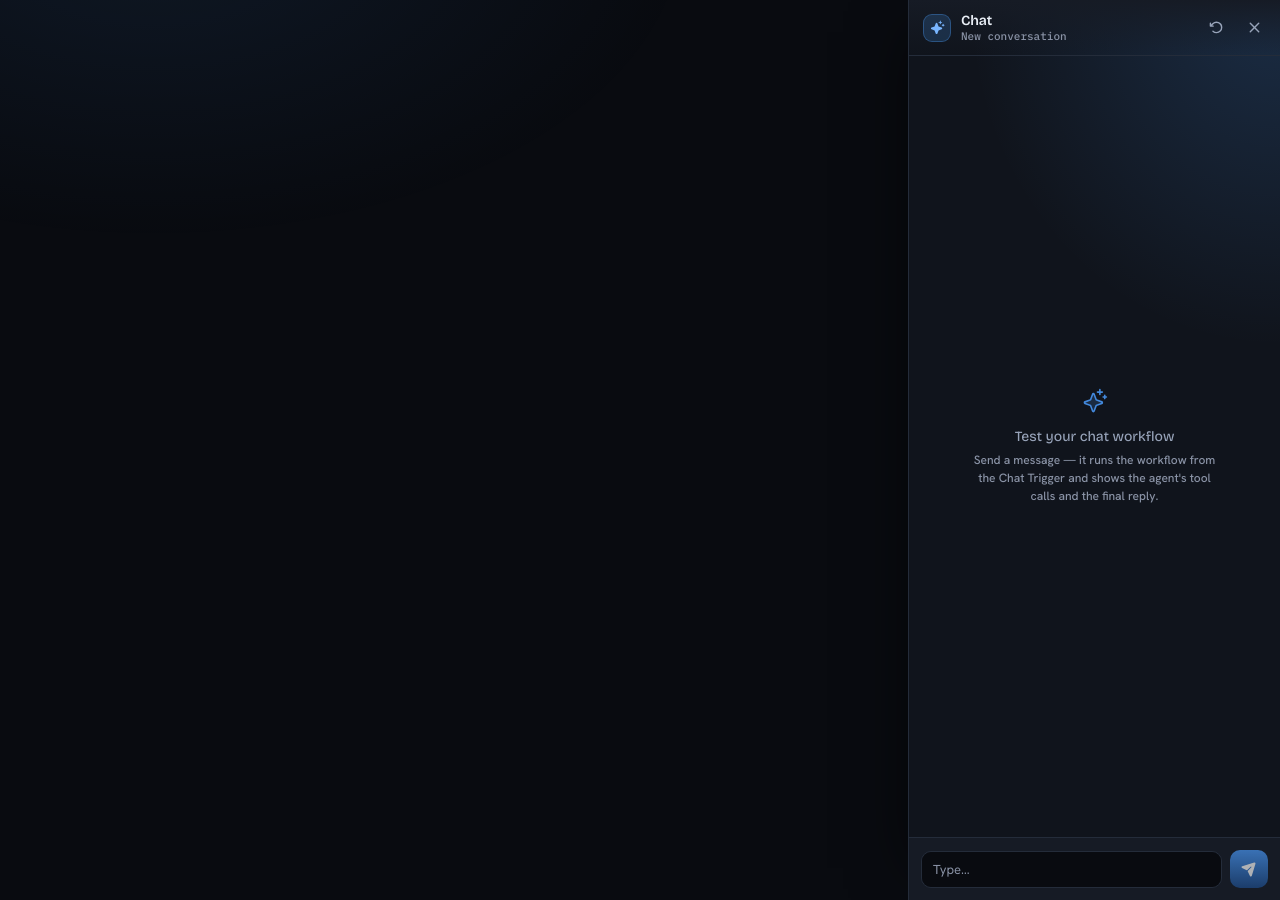
Scenario: ChatPanel › shows the agent tool trace from the run timeline
Type "search" into the text box with placeholder "Type…" at (1072, 870), box [921,851,1222,888]
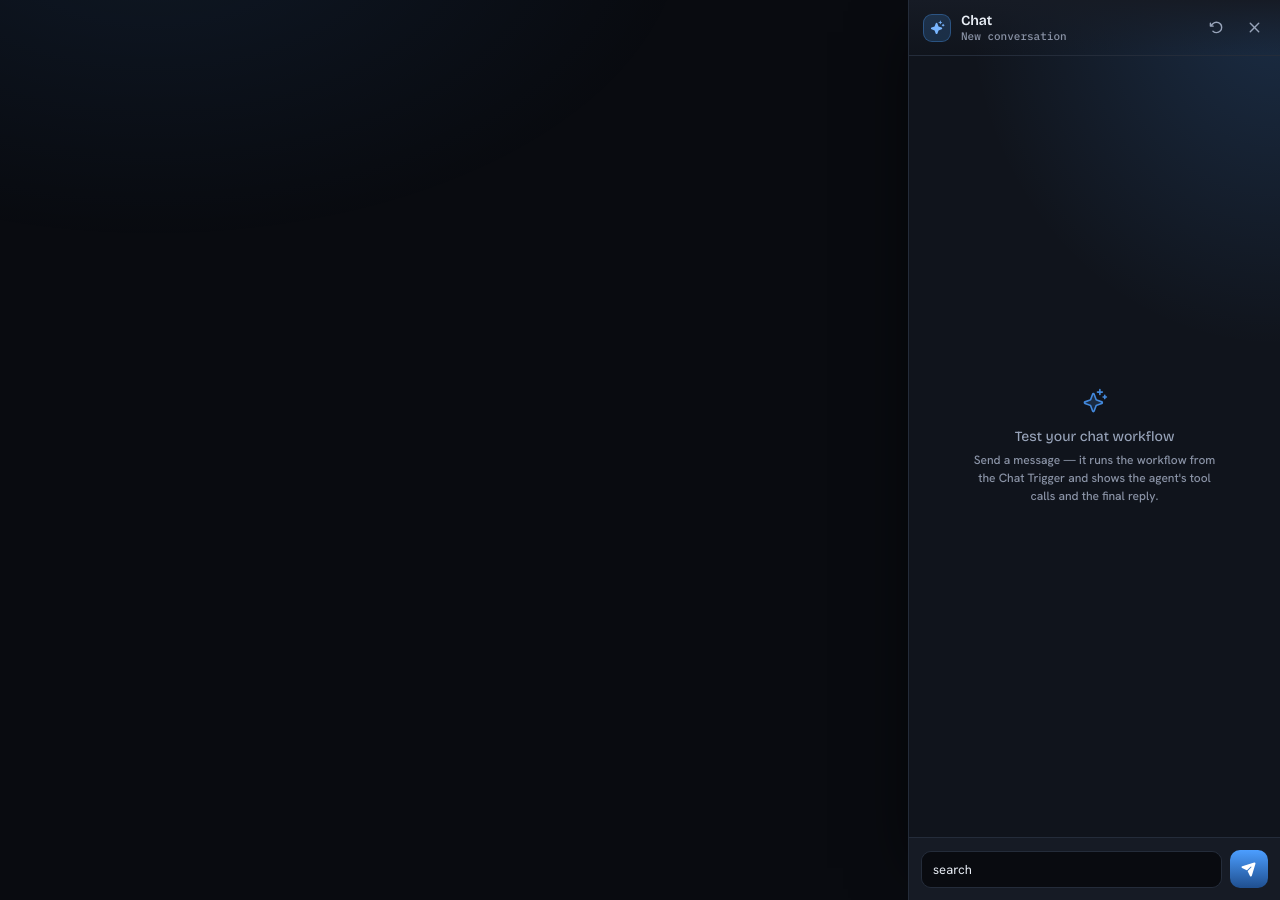
Click the button named "send" at (1249, 869), box [1230,850,1268,888]
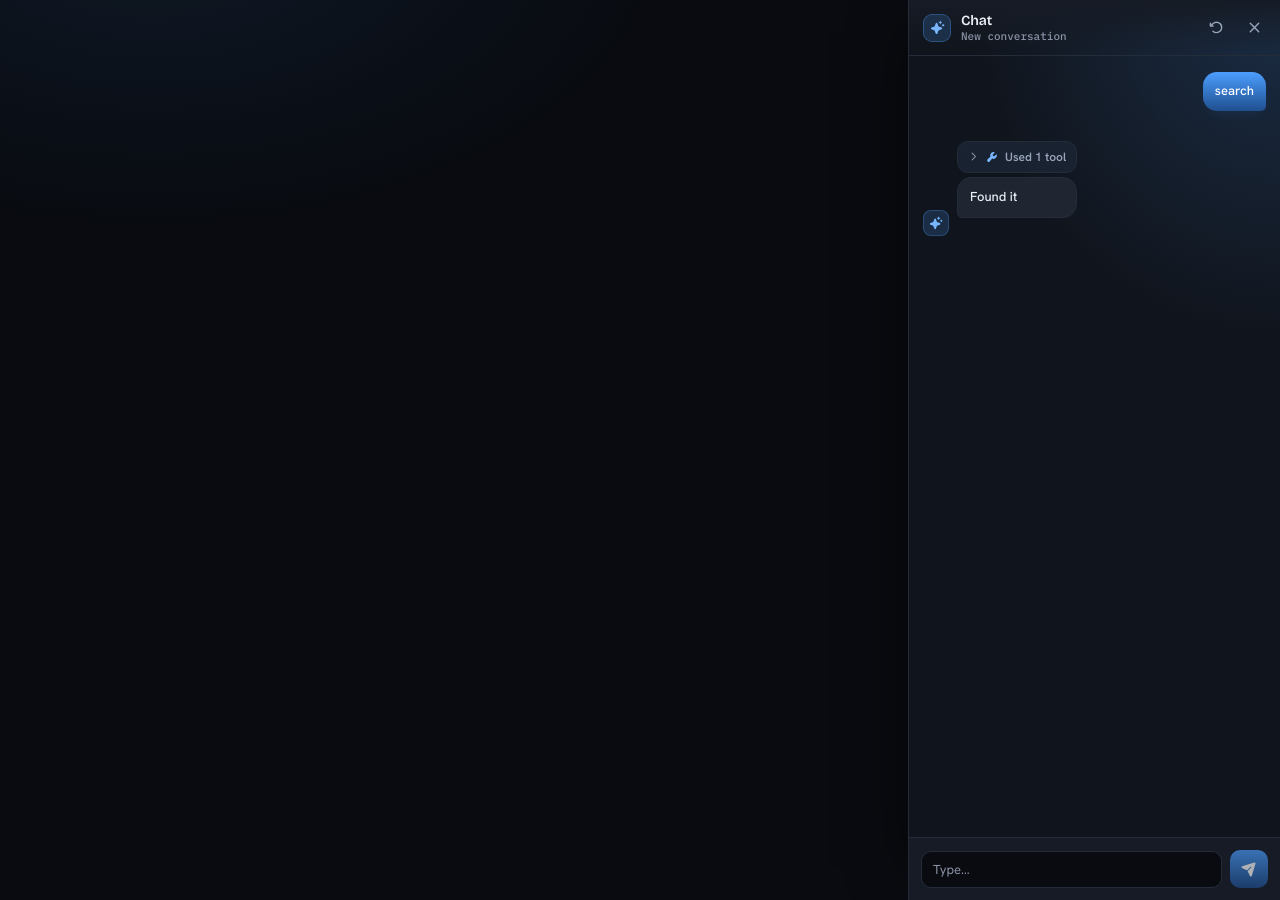
// Summary appears once the timeline resolves.
Click the button "Used 1 tool" at (1017, 157), box [958,142,1076,172]
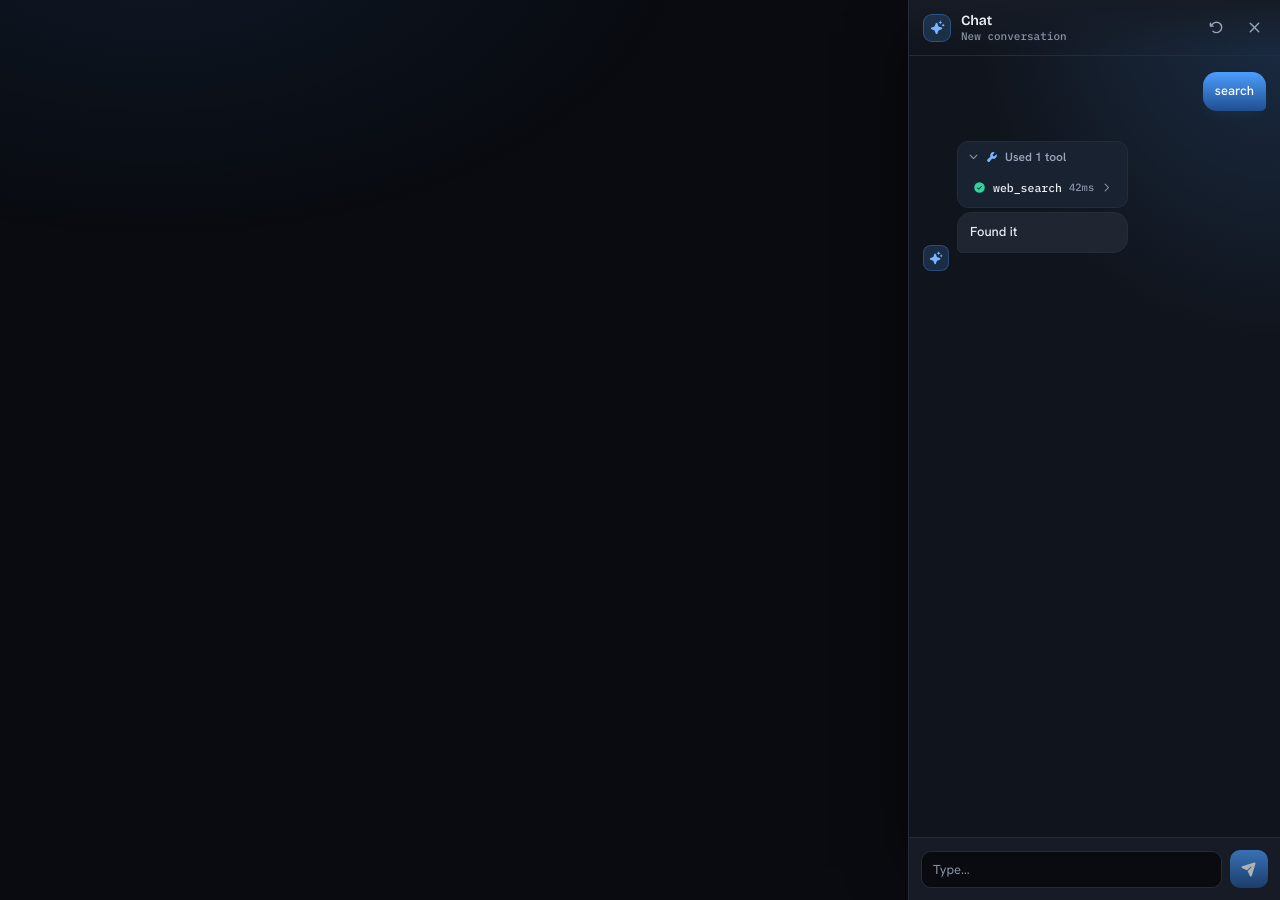
Click the button "web_search 42ms" at (1043, 187), box [965,175,1120,200]
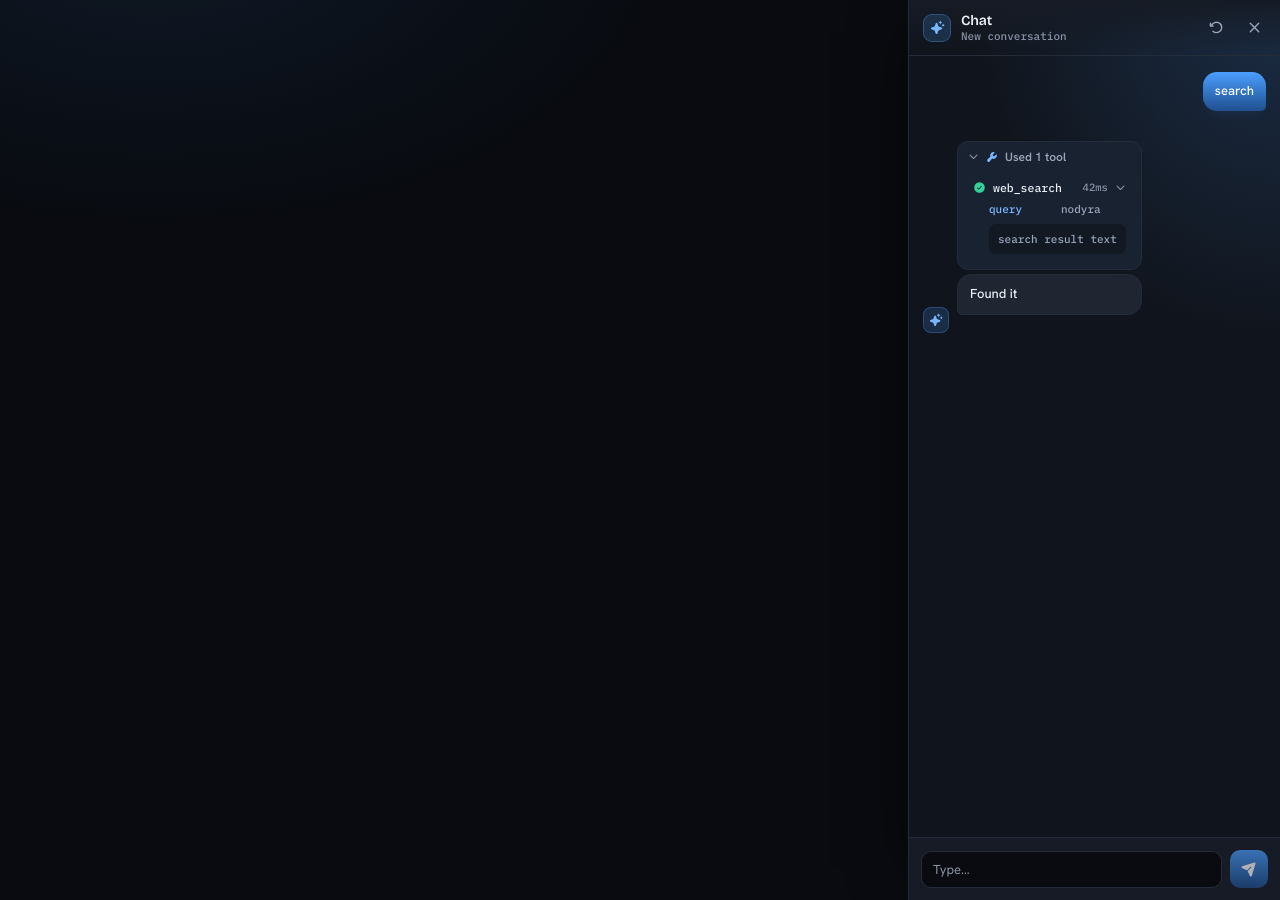
Expected: the text "search result text" is shown, [989,224,1126,254]
